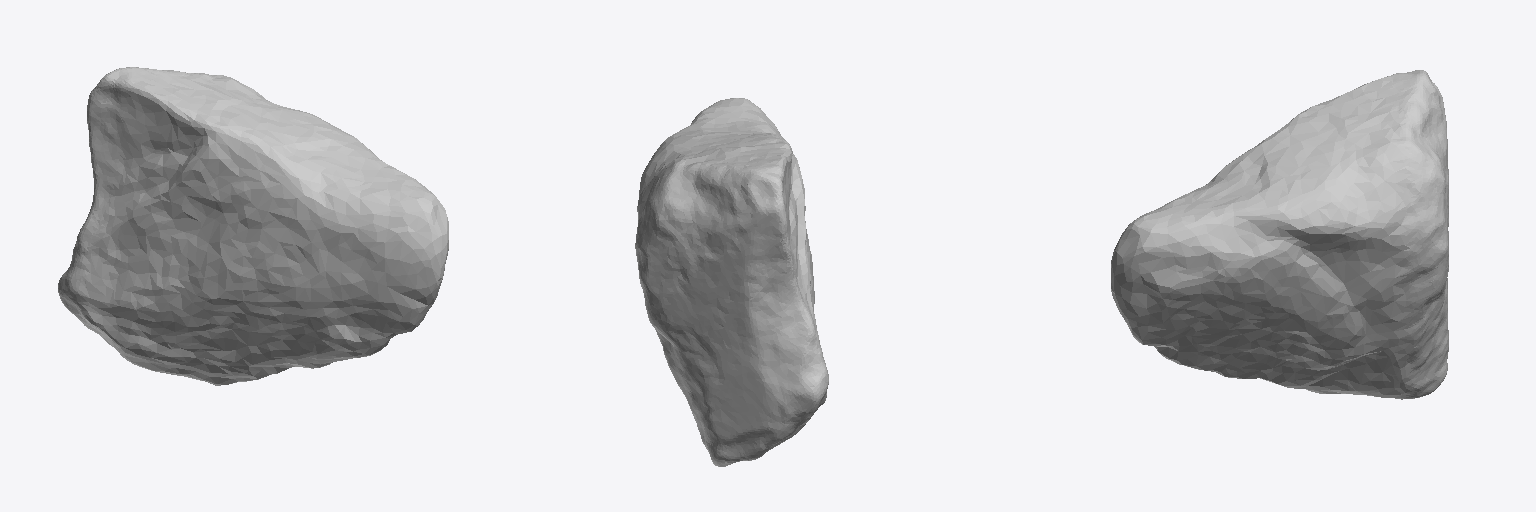
3 views of the same model, side by side, from view 1: azimuth 30°, elevation 25°; view 2: azimuth 150°, elevation 25°; view 3: azimuth 270°, elevation 25° (orthographic).
Parts seen in each view (by area): view 1: FinalOrientedMesh_Spec2.obj; view 2: FinalOrientedMesh_Spec2.obj; view 3: FinalOrientedMesh_Spec2.obj.
Part boxes in pixels (x1,y1,x2,y2): FinalOrientedMesh_Spec2.obj: (58,67,448,385); FinalOrientedMesh_Spec2.obj: (635,98,828,466); FinalOrientedMesh_Spec2.obj: (1111,70,1448,399).
Size of the model in its own units: 66.59 by 76.91 by 78.06.